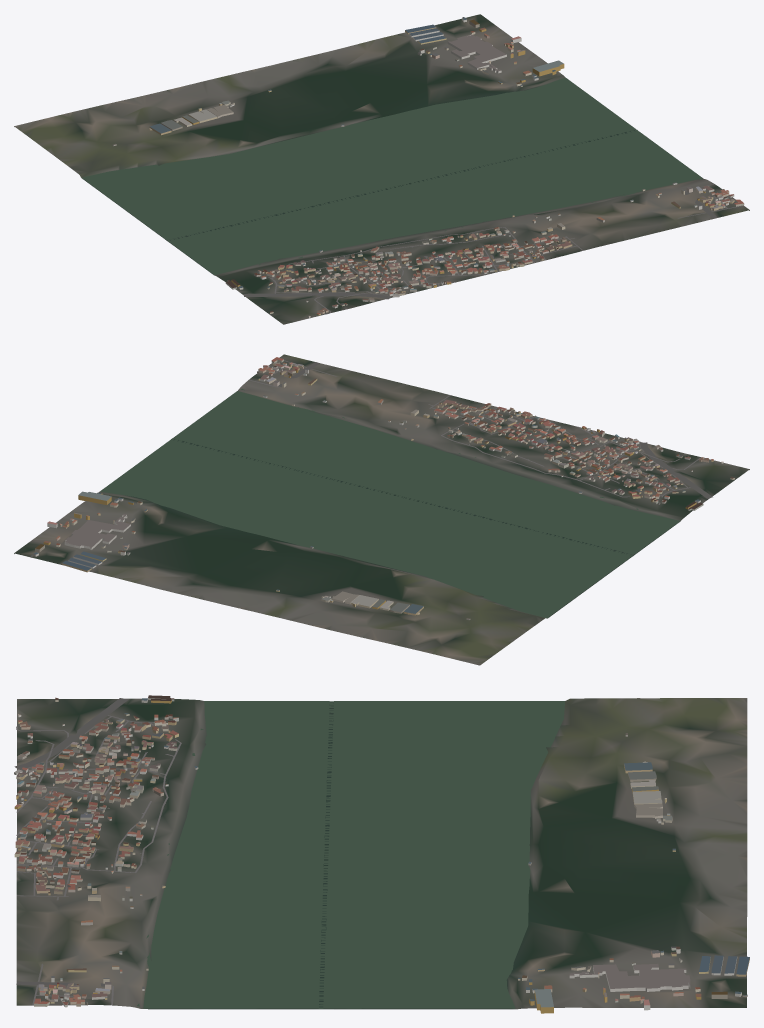
The picture shows the model from 3 angles, top to bottom: view 1: azimuth 30°, elevation 25°; view 2: azimuth 150°, elevation 25°; view 3: azimuth 270°, elevation 25°; orthographic projection. The views are drawn at different scales.
Visible parts, largest first — view 1: water, ground, buildings, roads; view 2: water, ground, buildings, roads; view 3: water, ground, buildings, roads.
Boxes of the visible parts, box(x1,y1,x2,y2) form: water: box(82, 77, 702, 274); ground: box(14, 14, 749, 324); buildings: box(112, 17, 744, 317); roads: box(243, 184, 743, 314); water: box(100, 389, 679, 618); ground: box(14, 354, 749, 665); buildings: box(30, 357, 734, 620); roads: box(248, 360, 712, 504); water: box(137, 701, 564, 1008); ground: box(16, 698, 747, 1009); buildings: box(14, 695, 749, 1013); roads: box(14, 698, 181, 1005).
Size of the model in its own units: 1429 by 21.29 by 1413.
